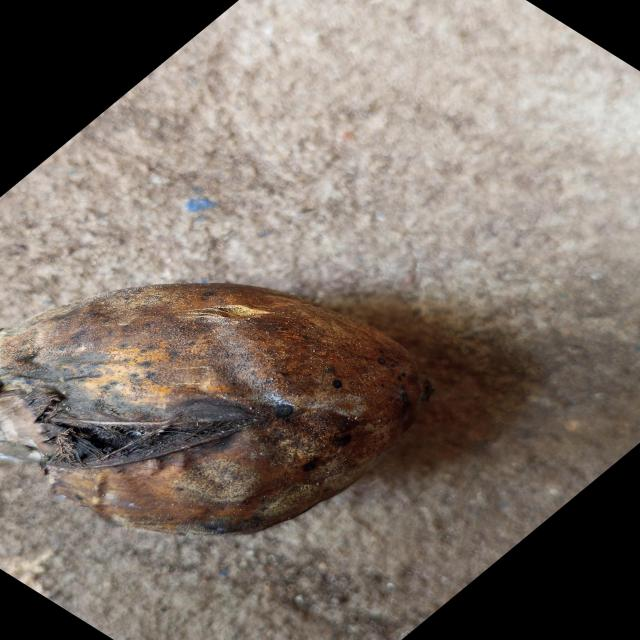damaged: (0, 281, 430, 540)
